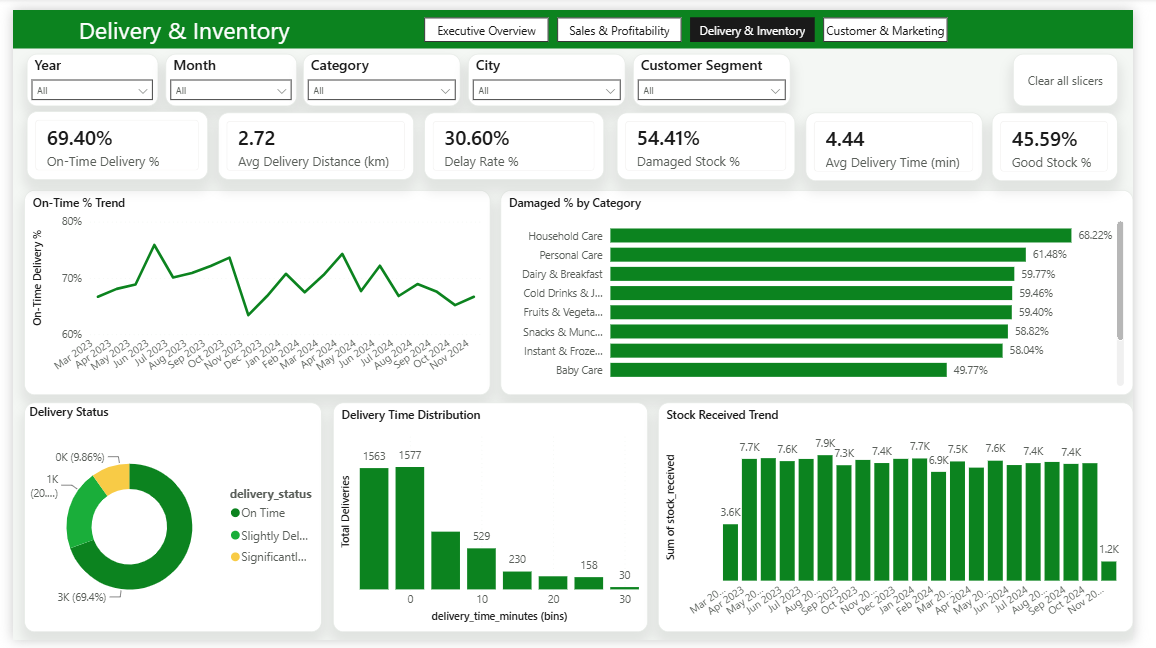

The dashboard page shown, as its layout file describes it:
{"tool":"powerbi","page":{"name":" Delivery & Inventory ","canvas":[1280,720],"ordinal":2},"visuals":[{"type":"lineChart","title":"On-Time % Trend","fields":{"Category":["Date.Year Month"],"Y":["Measure Table.On-Time Delivery %"]},"box":[12.9,205.7,532.9,234.3],"z":0},{"type":"donutChart","title":"Delivery Status","fields":{"Category":["Delivery Performance.delivery_status"],"Y":["Measure Table.Total Deliveries"]},"box":[13,449,340,262],"z":1000},{"type":"clusteredBarChart","title":"Damaged % by Category","fields":{"Category":["Products.category"],"Y":["Measure Table.Damaged Stock %"]},"box":[557.1,205.7,722.9,234.3],"z":2000},{"type":"clusteredColumnChart","title":"Delivery Time Distribution","fields":{"Category":["Delivery Performance.delivery_time_minutes (bins)"],"Y":["Measure Table.Total Deliveries"]},"box":[366,449,360,262],"z":3000},{"type":"slicer","title":"Year","fields":{"Values":["Date.Year"]},"box":[15.7,50,150,60],"z":4000},{"type":"slicer","fields":{"Values":["Date.Month Name"]},"box":[174,50,150,60],"z":5000},{"type":"slicer","fields":{"Values":["Products.category"]},"box":[332,50,180,60],"z":6000},{"type":"slicer","title":"Filter by City","fields":{"Values":["Customers.area"]},"box":[520,50,180,60],"z":7000},{"type":"textbox","box":[0,0,1280,44],"z":8000},{"type":"textbox","box":[16,0,360,55.7],"z":9000},{"type":"pageNavigator","box":[470,8,600,28.6],"z":10000},{"type":"slicer","title":"Filter by City","fields":{"Values":["Customers.customer_segment"]},"box":[708,50,180,60],"z":11000},{"type":"actionButton","box":[1142.5,50,120,60],"z":12000},{"type":"cardVisual","fields":{"Data":["Measure Table.Avg Delivery Time (min)"]},"box":[906.1,117,202.6,78.7],"z":13000},{"type":"cardVisual","fields":{"Data":["Measure Table.Avg Delivery Distance (km)"]},"box":[234.3,117.1,224.3,77.1],"z":14000},{"type":"cardVisual","fields":{"Data":["Measure Table.Delay Rate %"]},"box":[470,117.1,205.7,77.1],"z":15000},{"type":"cardVisual","fields":{"Data":["Measure Table.Damaged Stock %"]},"box":[690,117.1,204.3,77.1],"z":16000},{"type":"cardVisual","fields":{"Data":["Measure Table.On-Time Delivery %"]},"box":[15.7,115.7,207.4,78.7],"z":17000},{"type":"cardVisual","fields":{"Data":["Measure Table.Good Stock %"]},"box":[1119.1,117,143.9,78.7],"z":18000},{"type":"clusteredColumnChart","title":"Stock Received Trend","fields":{"Category":["Date.Year Month"],"Y":["Sum(Inventory.stock_received)"]},"box":[737,449,543,262],"z":19000}]}

Visuals, with their boxes in screenshot pixels (x1, y1, x2, y2), scaled from the page's 1280x720 canvas onto the 1156x648 screenshot:
"On-Time % Trend" lineChart: [left=12, top=185, right=493, bottom=396]
"Delivery Status" donutChart: [left=12, top=404, right=319, bottom=640]
"Damaged % by Category" clusteredBarChart: [left=503, top=185, right=1155, bottom=396]
"Delivery Time Distribution" clusteredColumnChart: [left=331, top=404, right=656, bottom=640]
"Year" slicer: [left=14, top=45, right=150, bottom=99]
slicer - Date.Month Name: [left=157, top=45, right=293, bottom=99]
slicer - Products.category: [left=300, top=45, right=462, bottom=99]
"Filter by City" slicer: [left=470, top=45, right=632, bottom=99]
textbox: [left=0, top=0, right=1155, bottom=40]
textbox: [left=14, top=0, right=340, bottom=50]
pageNavigator: [left=424, top=7, right=966, bottom=33]
"Filter by City" slicer: [left=639, top=45, right=802, bottom=99]
actionButton: [left=1032, top=45, right=1140, bottom=99]
cardVisual - Measure Table.Avg Delivery Time (min): [left=818, top=105, right=1001, bottom=176]
cardVisual - Measure Table.Avg Delivery Distance (km): [left=212, top=105, right=414, bottom=175]
cardVisual - Measure Table.Delay Rate %: [left=424, top=105, right=610, bottom=175]
cardVisual - Measure Table.Damaged Stock %: [left=623, top=105, right=808, bottom=175]
cardVisual - Measure Table.On-Time Delivery %: [left=14, top=104, right=201, bottom=175]
cardVisual - Measure Table.Good Stock %: [left=1011, top=105, right=1141, bottom=176]
"Stock Received Trend" clusteredColumnChart: [left=666, top=404, right=1155, bottom=640]
